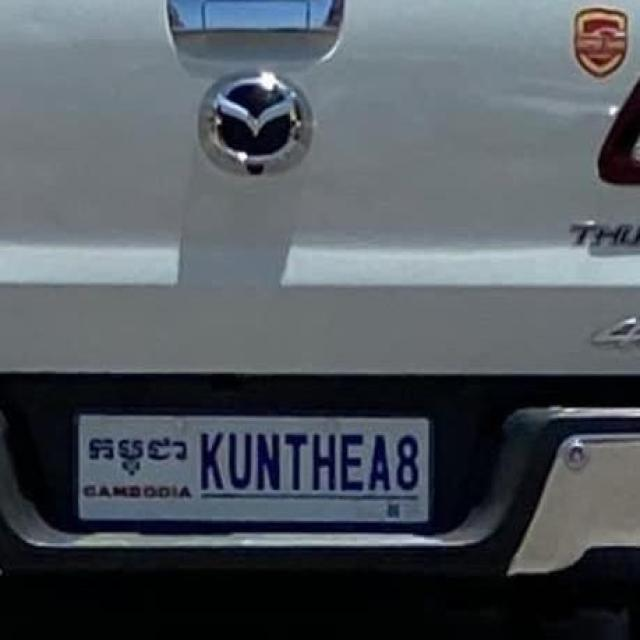Cambodia: (86, 430, 190, 482)
